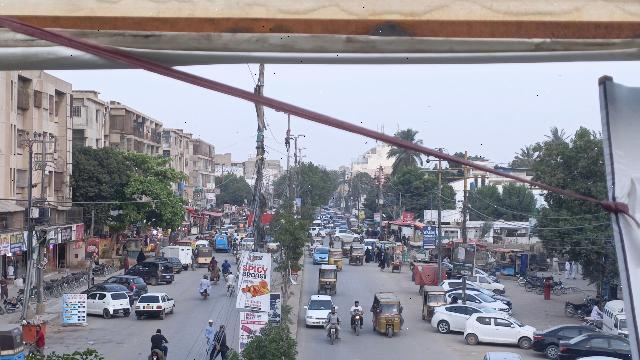Bike: (349, 312, 366, 337), (325, 320, 340, 346), (150, 347, 168, 360), (200, 288, 210, 302), (227, 283, 234, 298)
Car: (463, 311, 535, 349), (529, 323, 595, 357), (429, 301, 486, 336), (135, 290, 177, 321), (86, 291, 130, 320), (304, 294, 339, 328), (130, 259, 174, 286), (107, 273, 147, 297)
Person: (210, 323, 230, 360), (32, 324, 48, 356), (148, 328, 170, 351), (204, 316, 216, 352), (323, 307, 342, 325), (350, 299, 366, 317), (197, 274, 213, 290), (224, 270, 236, 284)
Rickshaw: (369, 288, 406, 341), (418, 284, 448, 321), (317, 262, 339, 298)
Truck: (165, 242, 192, 267)
